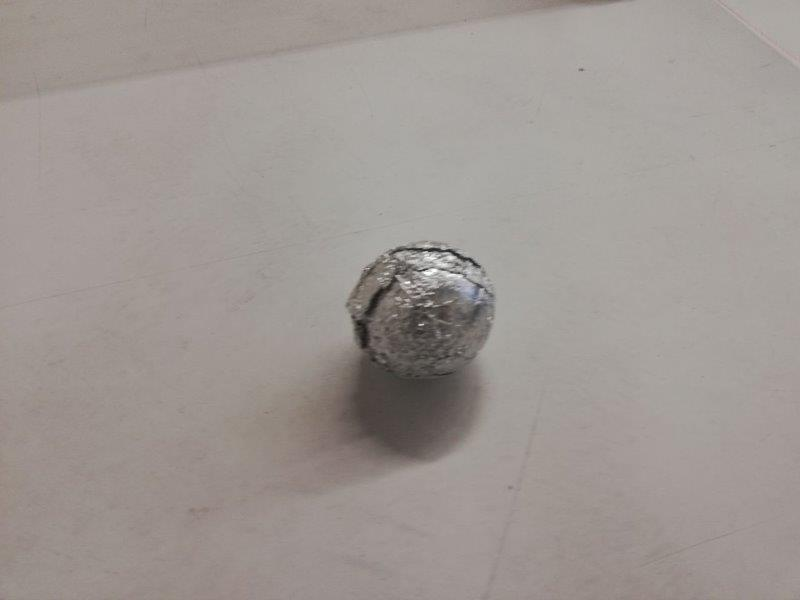bianca: (348, 237, 498, 380)
